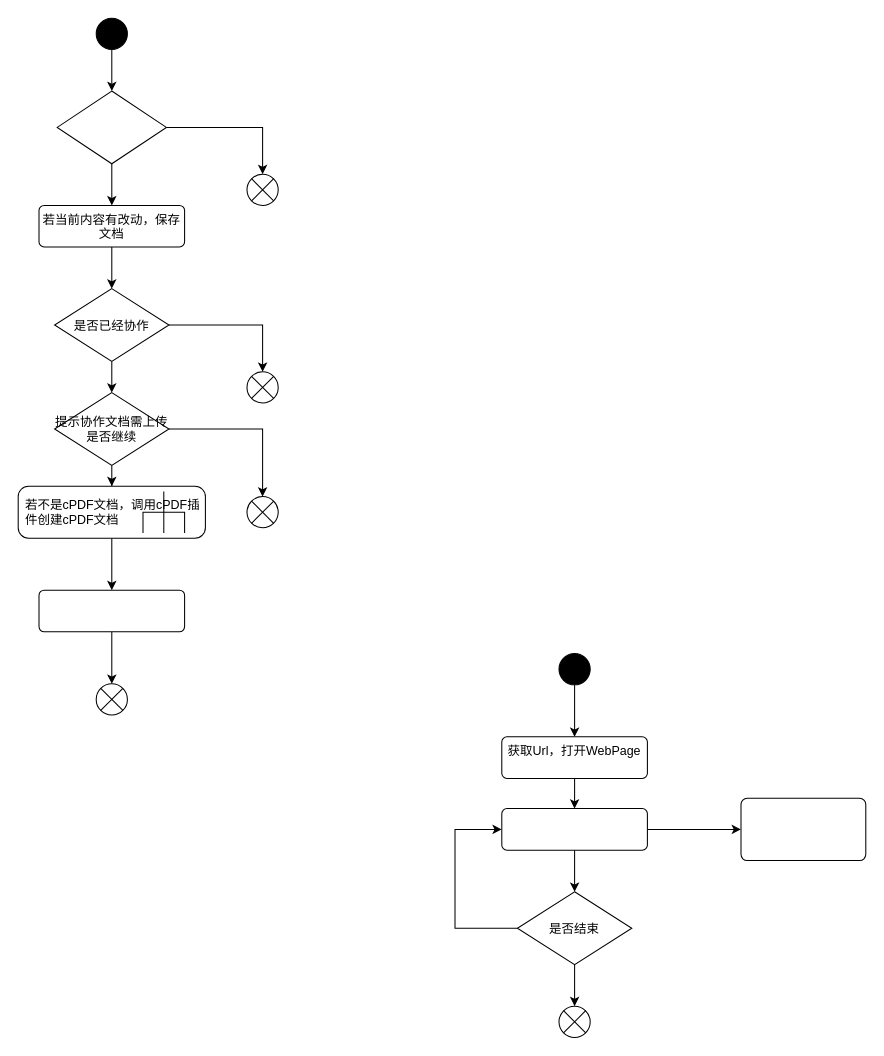
Image size: 884x1056. Some labels were removed from this diagram. Here are the shapes that lost their labels. From the top down, the centre of each, then its label:
[111,127]: 是否登录
[111,610]: 打开ShareFileDialog
[574,829]: 处理DispatchFunc
